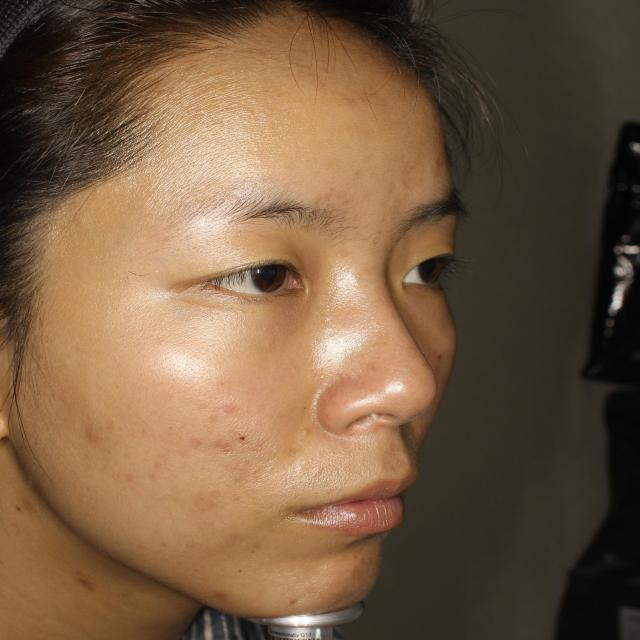acne: (208, 432, 243, 461), (79, 420, 109, 452), (70, 563, 100, 591), (347, 557, 376, 583)
